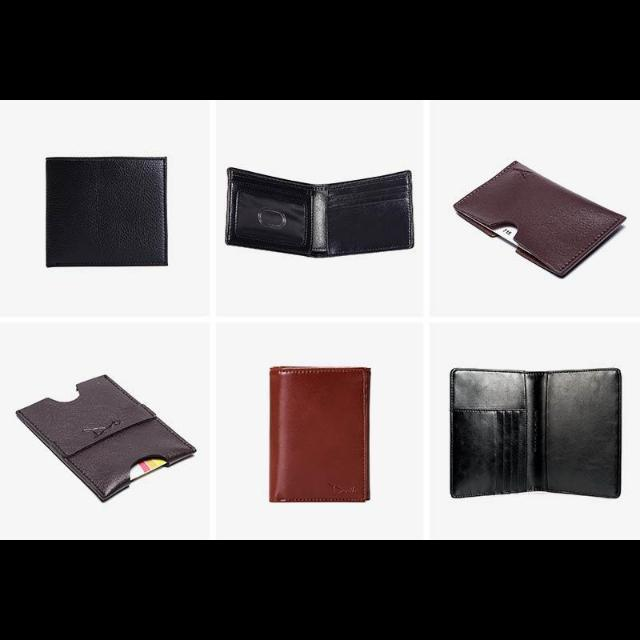wallet: (446, 362, 620, 502), (222, 162, 416, 258), (265, 362, 373, 503), (41, 154, 170, 268)
